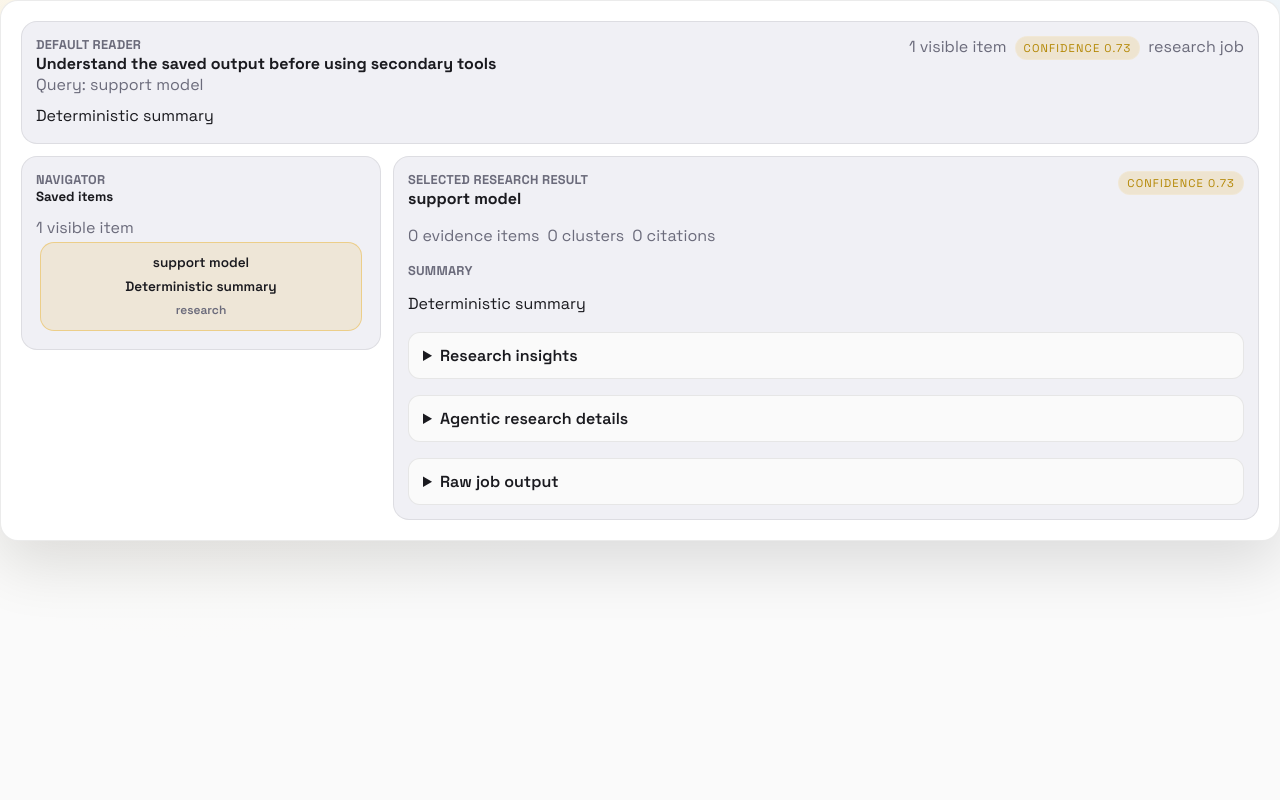
Test: ResultsViewer agentic research rendering › keeps agentic research details available behind a secondary disclosure
expect the text "Deterministic summary" below "Query:" is shown: met, box [36,105,214,126]
Click the heading "Agentic research details" at (534, 419), box [440,408,628,429]
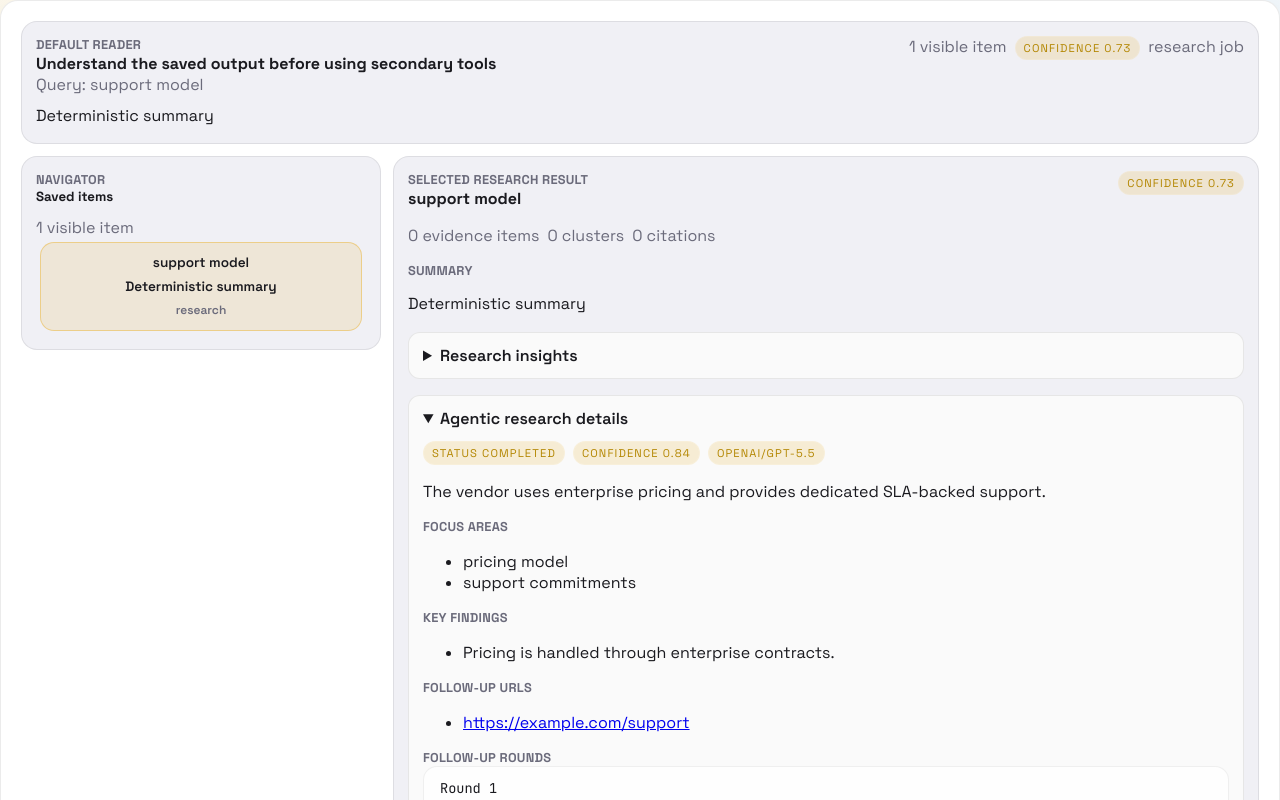
expect the link "https://example.com/support" is shown: met, box [463,712,690,733]
expect the text "Status completed" is shown: met, box [423,441,565,465]
expect the text "The vendor uses enterprise pricing and provides dedicated SLA-backed support." is shown: met, box [423,481,1046,502]
